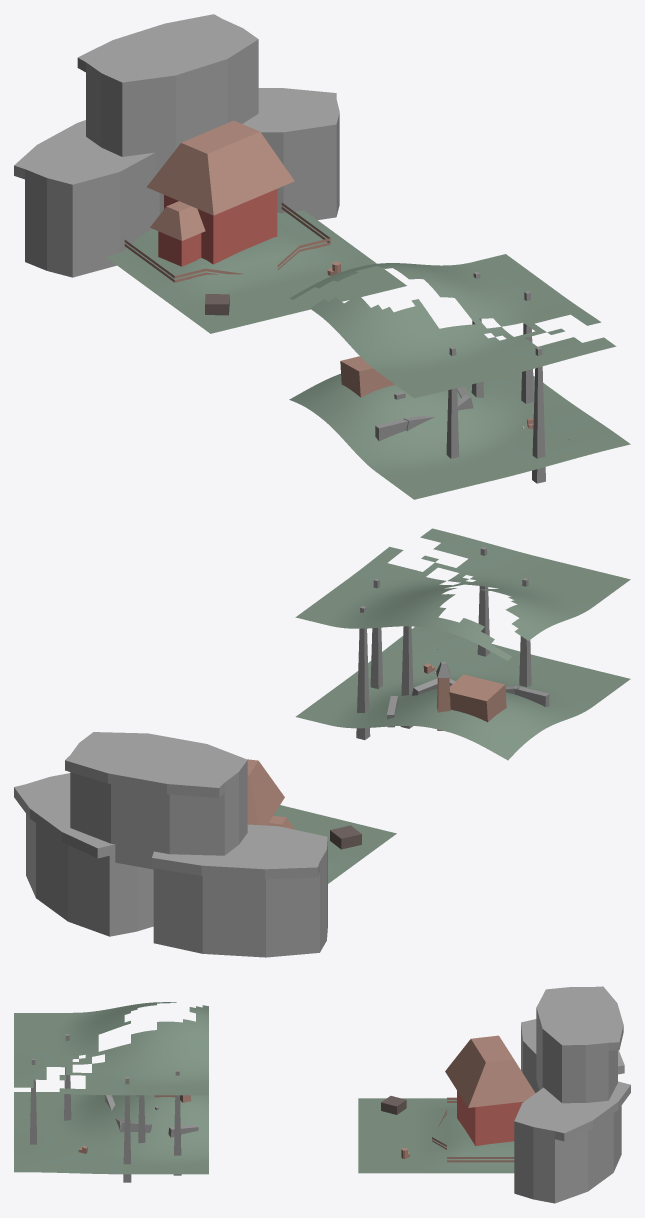
File: AW_BLOCKING.fbx
3 views of the same model, one above another, from view 1: azimuth 30°, elevation 25°; view 2: azimuth 150°, elevation 25°; view 3: azimuth 270°, elevation 25° (orthographic). The views are drawn at different scales.
Visible parts, largest first — view 1: AW_BLOCKING; view 2: AW_BLOCKING; view 3: AW_BLOCKING.
Boxes of the visible parts, x1,y1,x2,y2 form: AW_BLOCKING: (14, 14, 630, 499); AW_BLOCKING: (14, 528, 630, 957); AW_BLOCKING: (14, 986, 630, 1203).
Bounding box in the file's own units: 171 × 92.31 × 370.
